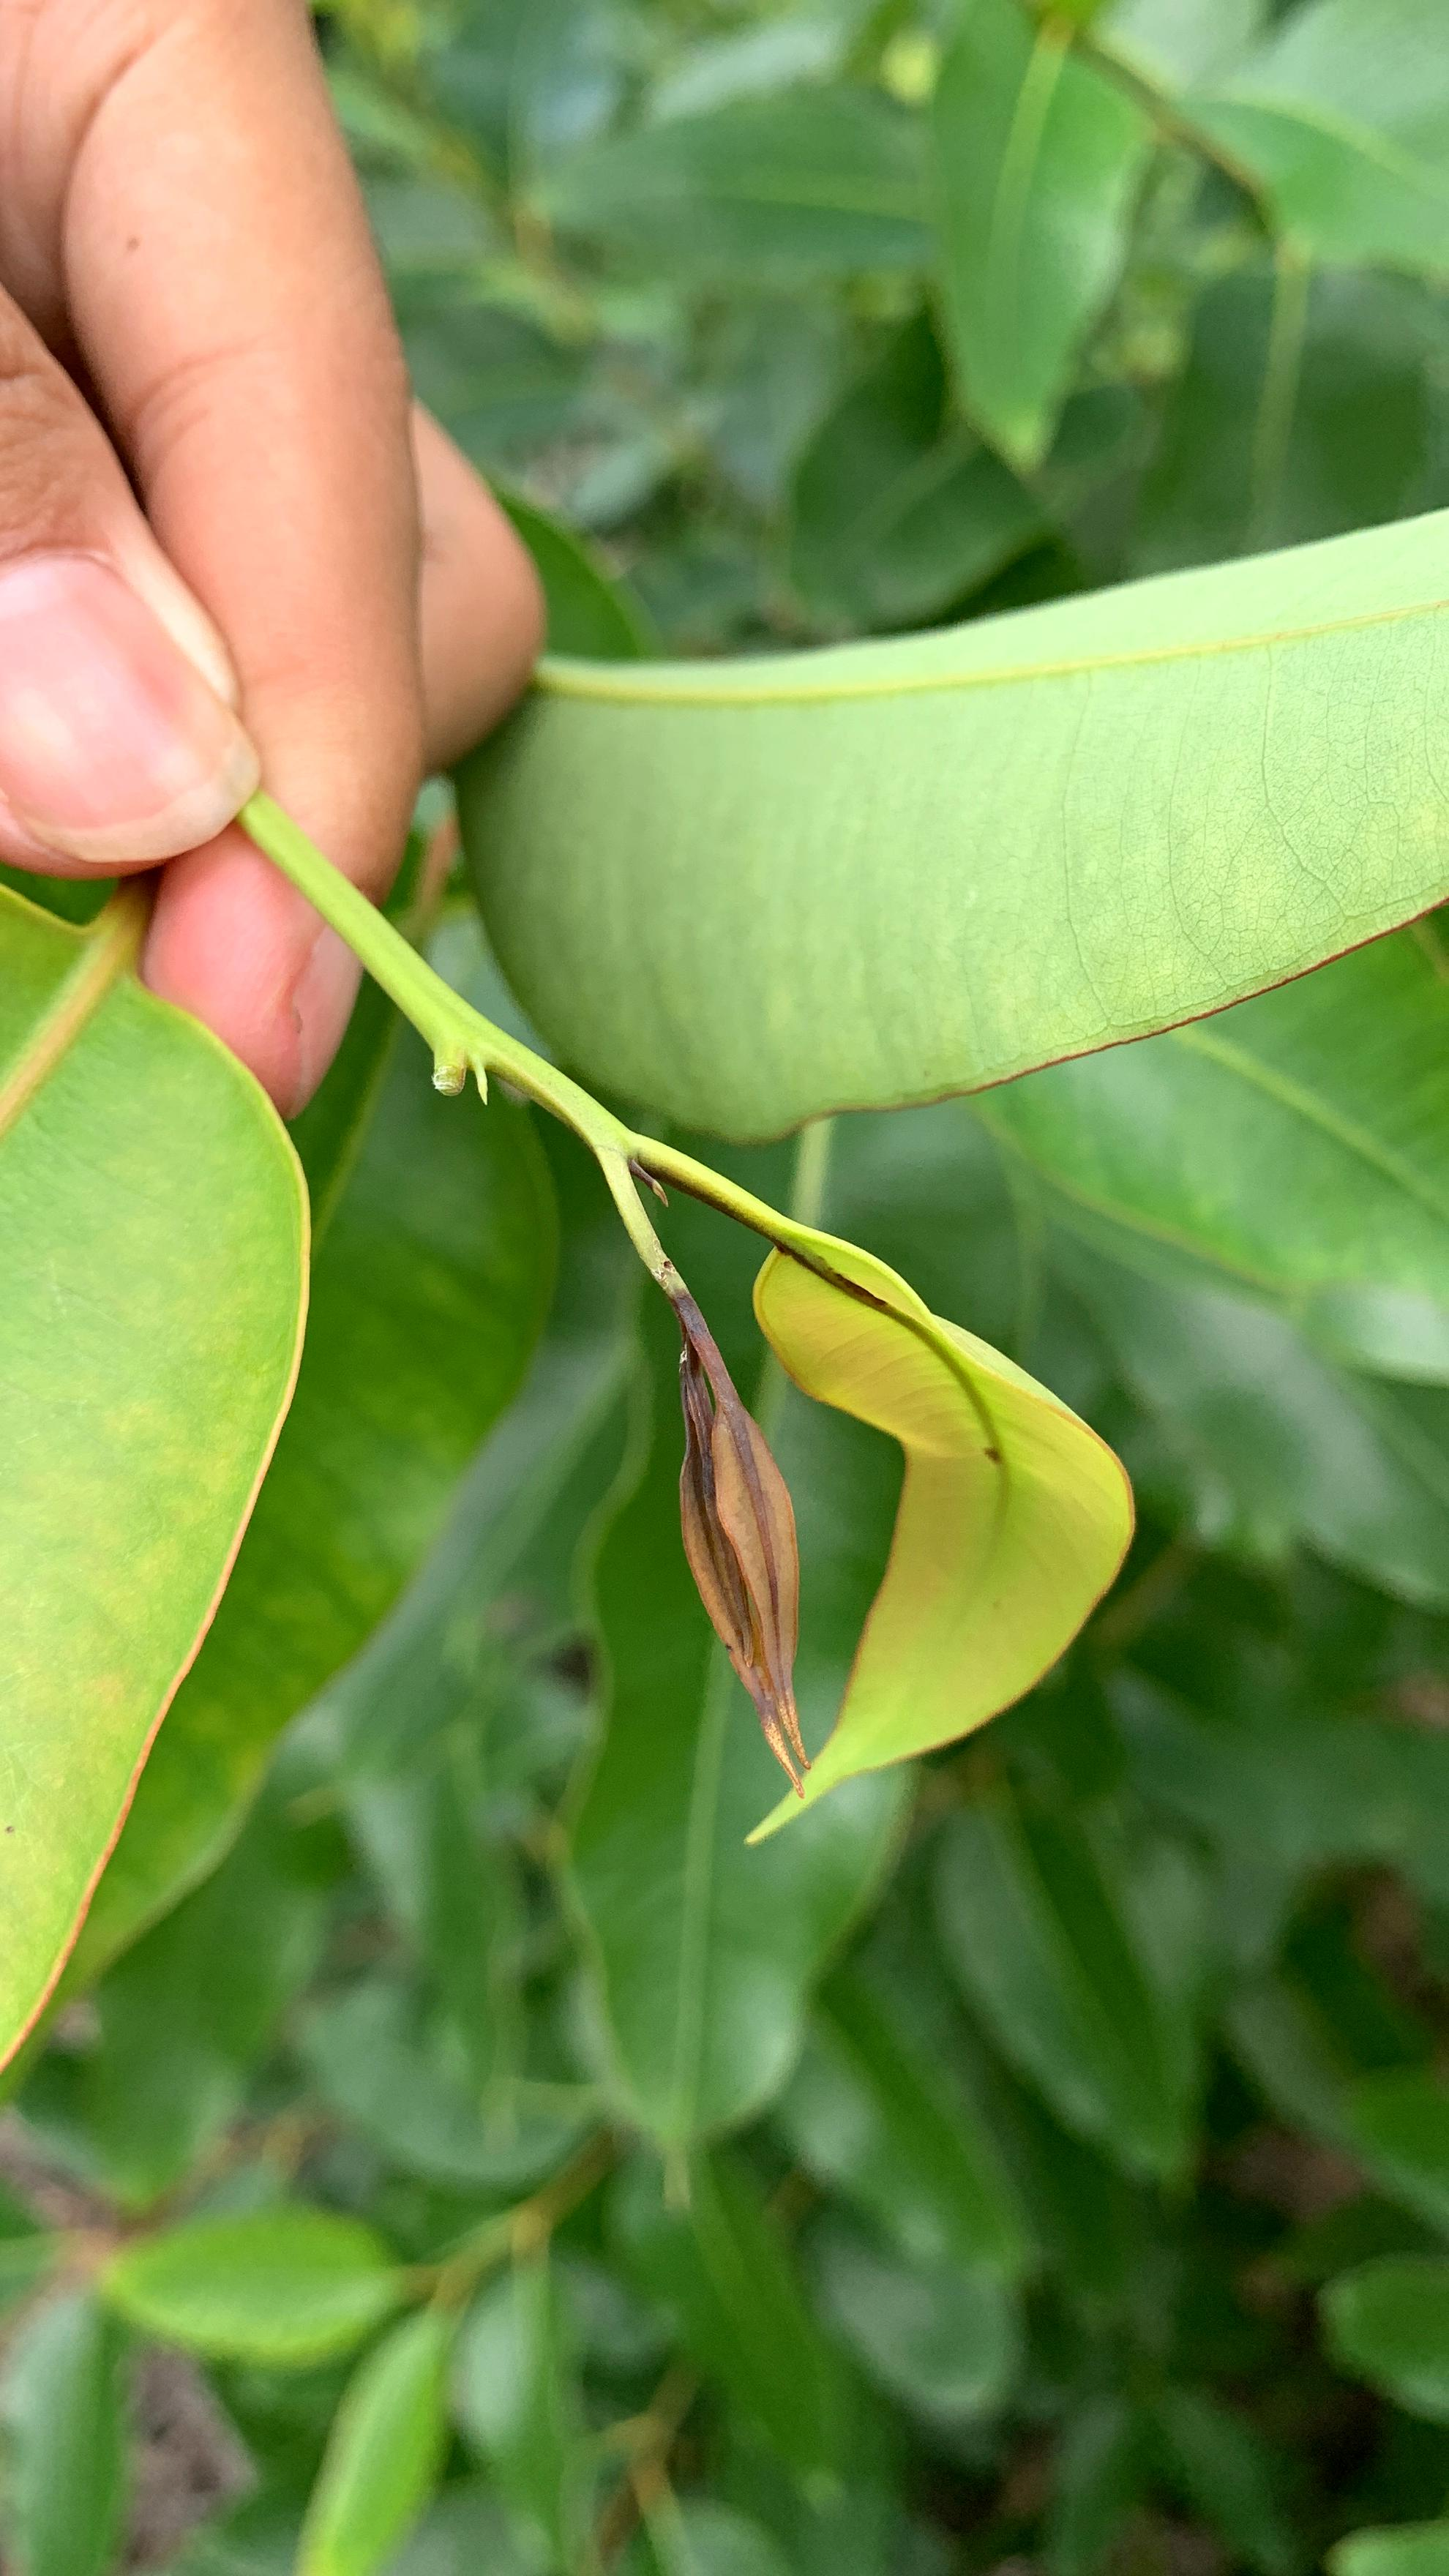Helopeltis-Withered Sprout: (619, 1281, 844, 1799)
